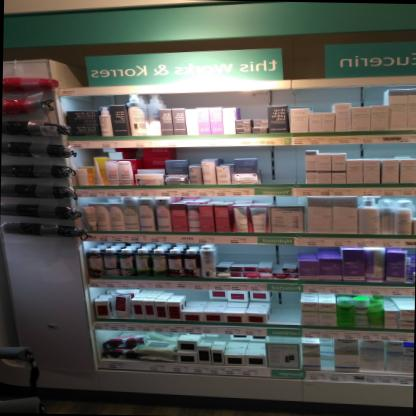empty_space: (268, 291, 300, 325), (289, 145, 306, 183), (273, 145, 289, 184), (258, 145, 273, 184)
